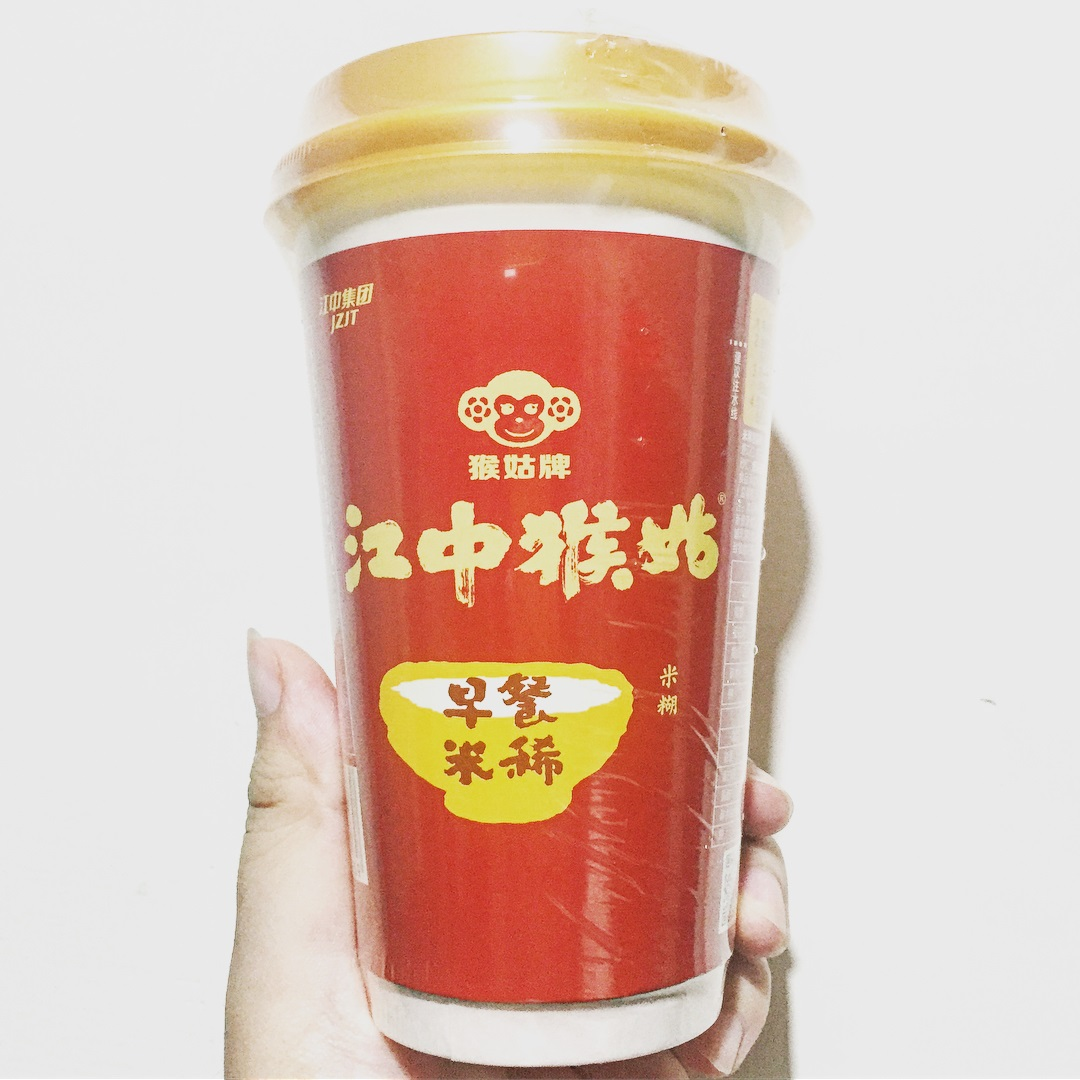cup: (275, 31, 801, 1063)
